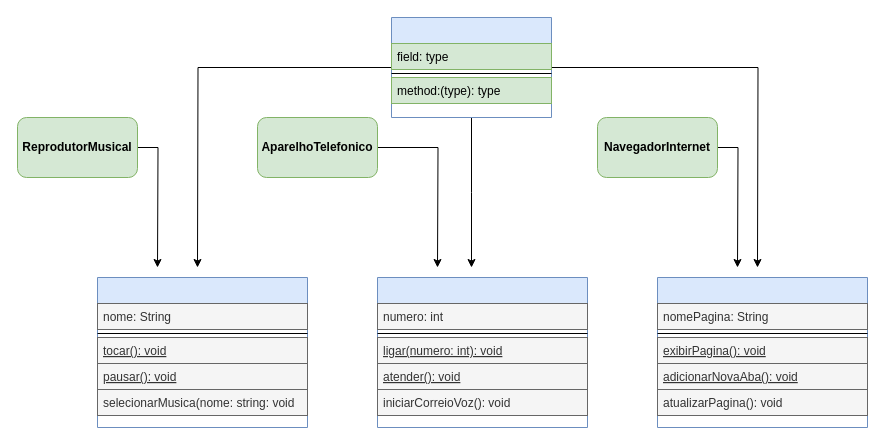
The diagram is 885 pixels wide and 445 high, and some of its shapes have lost their labels. The shapes that lost their labels are listed below. From the top down, each one's box as (x1, y1, x2, y2) in pixels, then its label:
(390, 16, 552, 118): Aparelho
(96, 276, 308, 428): Reproducao
(376, 276, 588, 428): Telefone
(656, 276, 868, 428): Navegador
